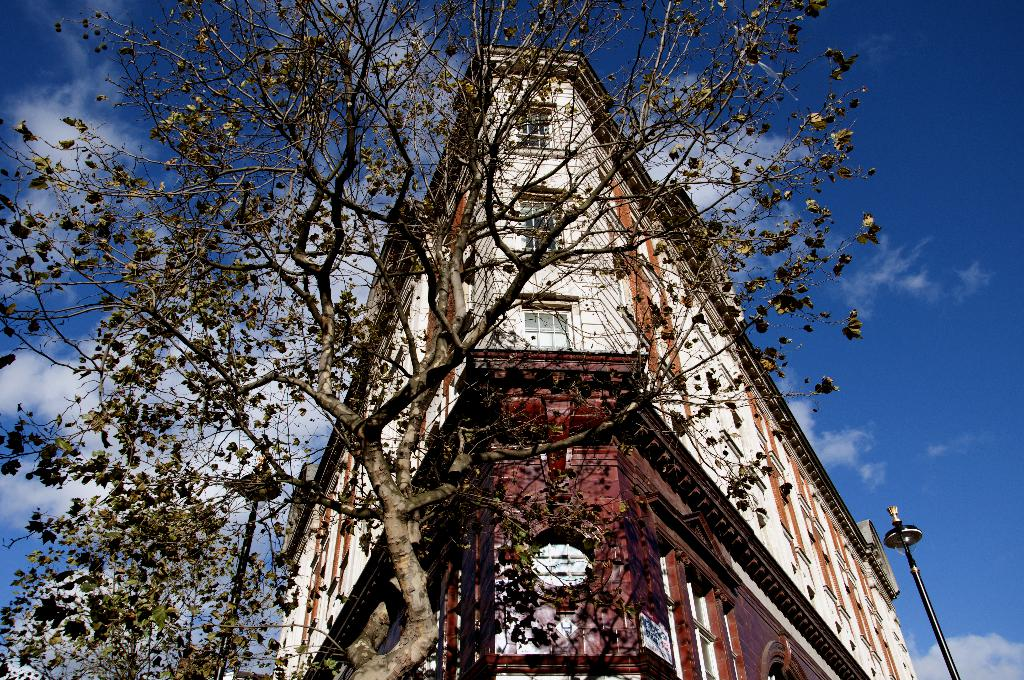Tree: (28, 0, 938, 674)
